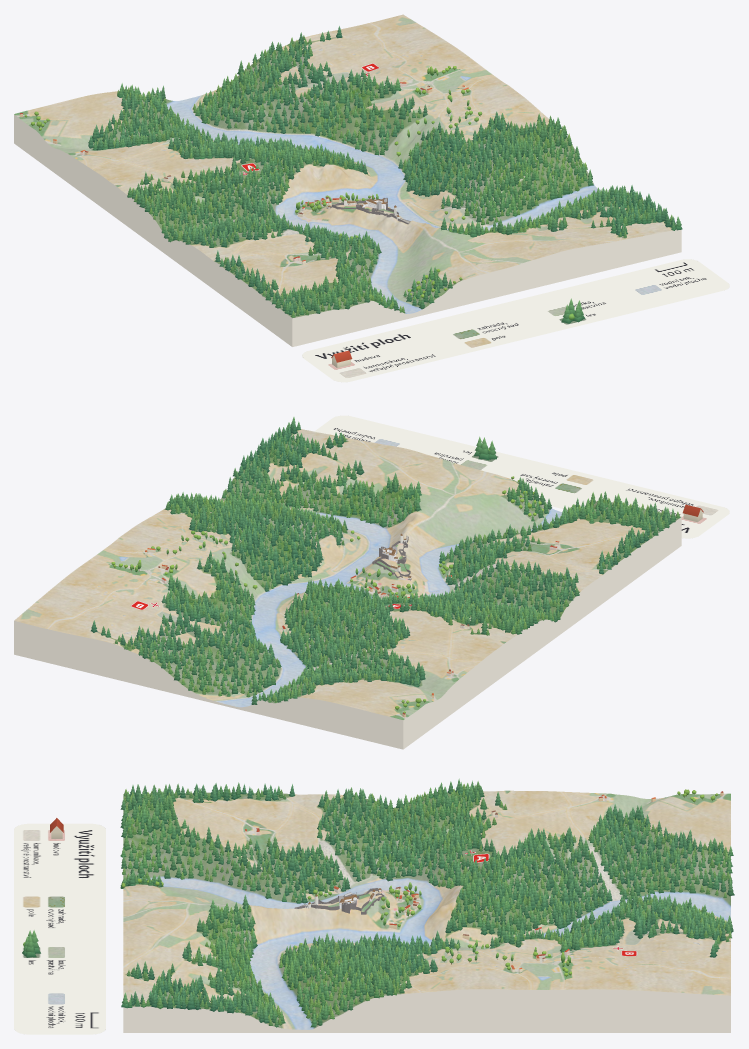
The model's file is Zvikov_sada4_otazka3_850m.glb.
3 renders of one model, top to bottom at view 1: azimuth 30°, elevation 25°; view 2: azimuth 150°, elevation 25°; view 3: azimuth 270°, elevation 25°, orthographic. The views are drawn at different scales.
Visible parts, largest first — view 1: DMR_1953, Zvikov_stromy_body, legenda_panel, Node0, legenda_objekty; view 2: DMR_1953, Zvikov_stromy_body, legenda_panel, Node0, legenda_objekty, Budovy_vyber_—_co_final_all_dissolve_budovy; view 3: DMR_1953, Zvikov_stromy_body, legenda_panel, Node0, Budovy_vyber_—_co_final_all_dissolve_budovy, legenda_objekty.
Part boxes in pixels (bbox=[...]): DMR_1953: bbox=[14, 14, 681, 346]; Zvikov_stromy_body: bbox=[24, 26, 682, 317]; legenda_panel: bbox=[302, 259, 729, 382]; Node0: bbox=[326, 198, 410, 224]; legenda_objekty: bbox=[331, 298, 585, 367]; DMR_1953: bbox=[14, 429, 681, 749]; Zvikov_stromy_body: bbox=[91, 417, 680, 713]; legenda_panel: bbox=[314, 415, 729, 538]; Node0: bbox=[372, 533, 411, 580]; legenda_objekty: bbox=[474, 436, 703, 522]; Budovy_vyber_—_co_final_all_dissolve_budovy: bbox=[145, 541, 559, 717]; DMR_1953: bbox=[123, 790, 730, 1032]; Zvikov_stromy_body: bbox=[120, 778, 734, 1027]; legenda_panel: bbox=[14, 823, 105, 1034]; Node0: bbox=[294, 888, 384, 914]; Budovy_vyber_—_co_final_all_dissolve_budovy: bbox=[245, 791, 723, 972]; legenda_objekty: bbox=[22, 818, 63, 957].
Bounding box in the file's own units: 1490 × 181 × 2153.
8 materials, 4 textured.
